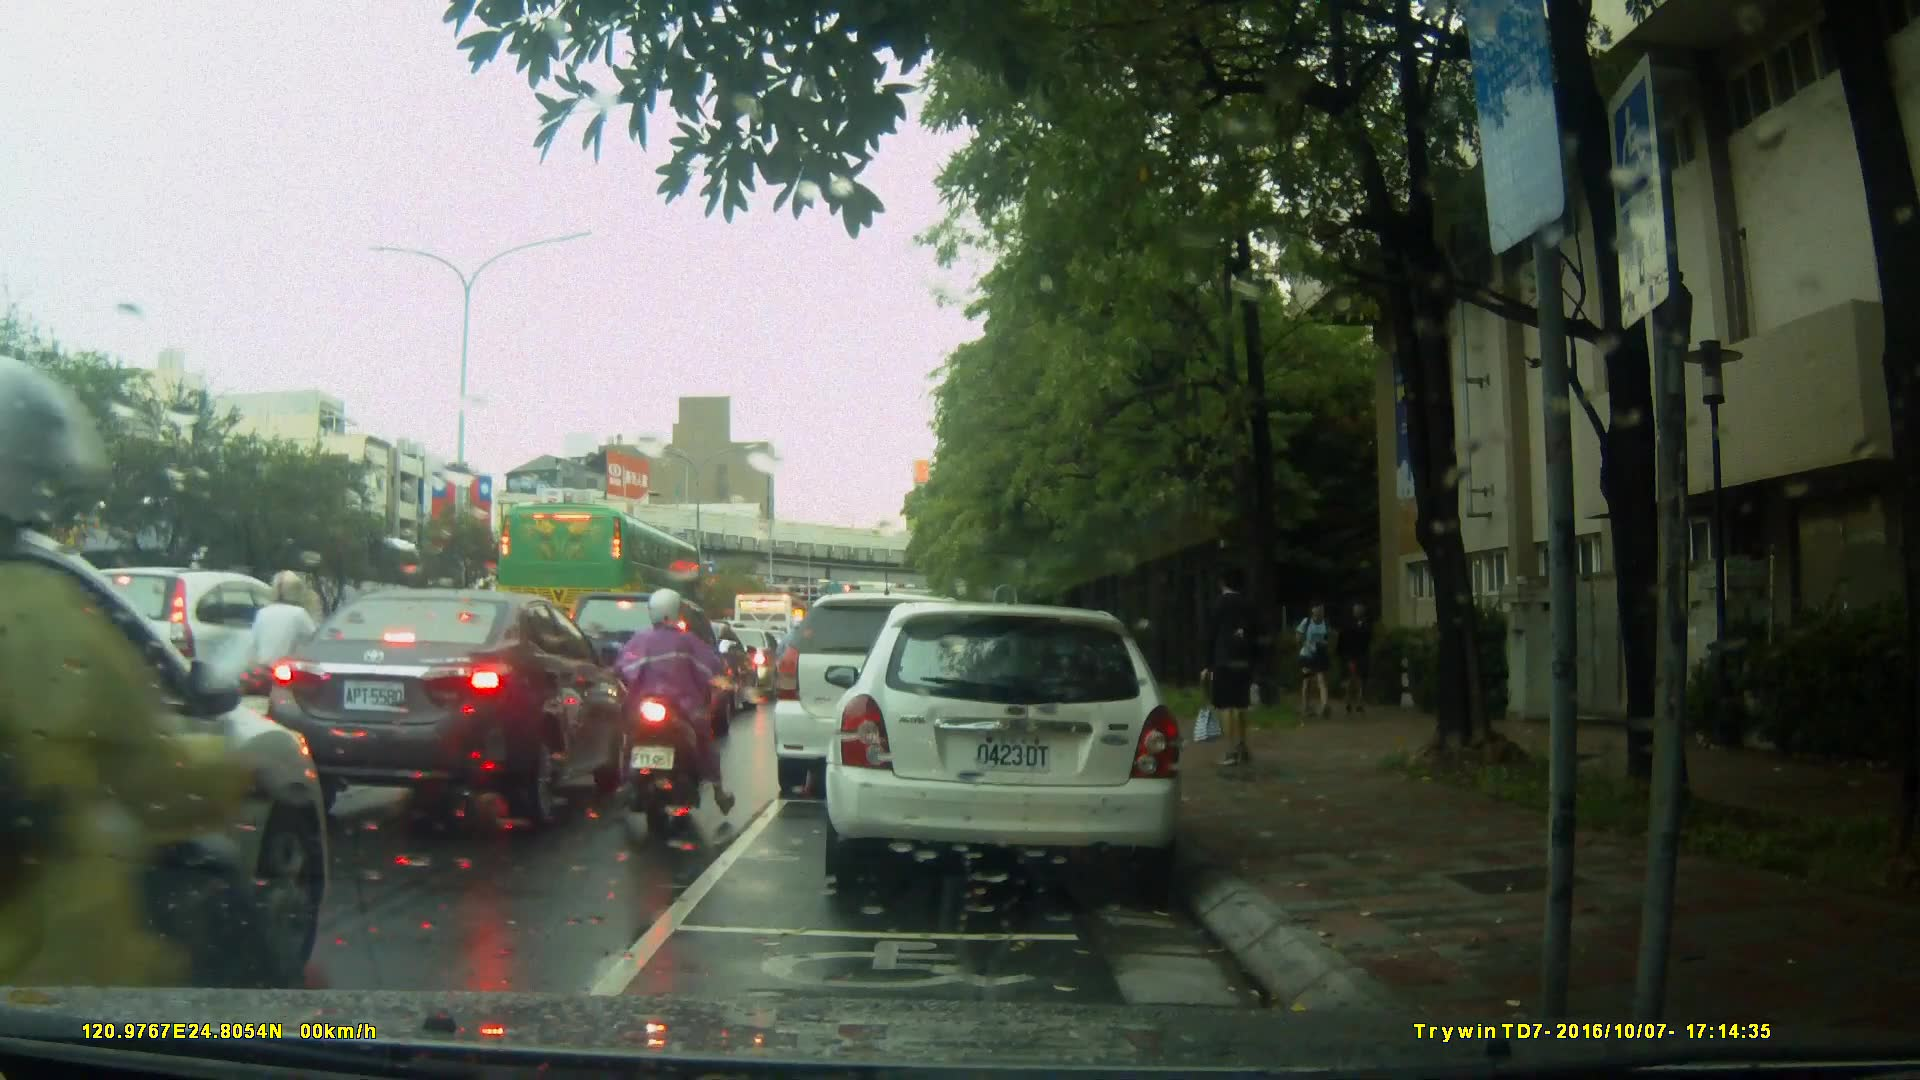pedestrian: (1198, 568, 1272, 771), (1297, 592, 1351, 720), (1333, 596, 1373, 713)
rider: (1, 356, 262, 1080), (624, 585, 731, 832), (771, 612, 810, 706)
vehicle: (1, 521, 331, 986), (831, 592, 1196, 897), (255, 586, 634, 830), (23, 562, 328, 761), (770, 592, 999, 799), (495, 501, 707, 645), (549, 588, 730, 742)
